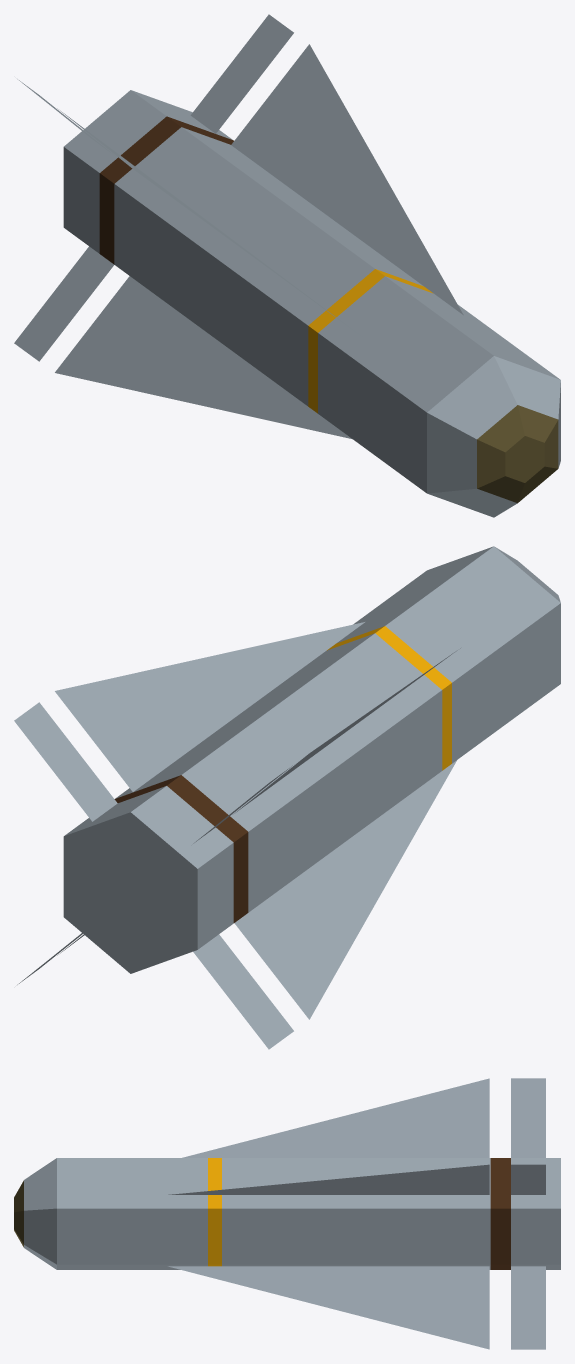
Rendered from missile.fbx.
3 views of the same model, one above another, from view 1: azimuth 30°, elevation 25°; view 2: azimuth 150°, elevation 25°; view 3: azimuth 270°, elevation 25° (orthographic). The views are drawn at different scales.
Parts seen in each view (by area): view 1: Plane.001; view 2: Plane.001; view 3: Plane.001.
Part boxes in pixels (left/top/right/bottom): Plane.001: left=14, top=14, right=560, bottom=517; Plane.001: left=14, top=546, right=560, bottom=1049; Plane.001: left=14, top=1078, right=560, bottom=1349.
Size of the model in its own units: 73.4 by 73.4 by 197.
